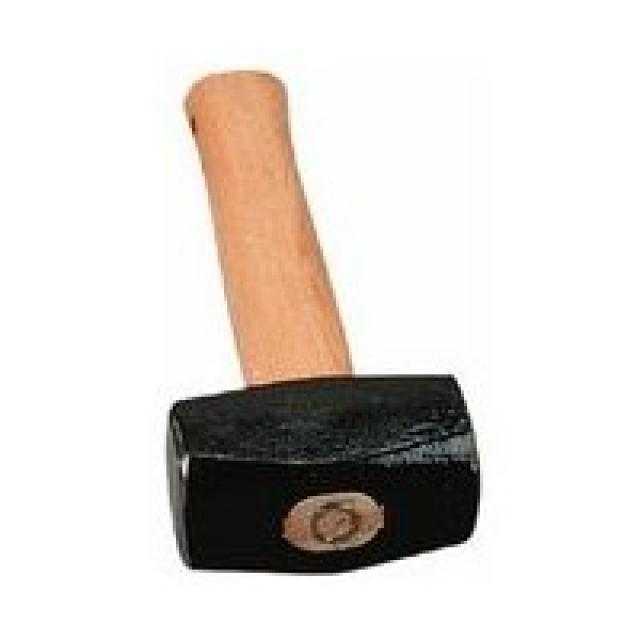hammer: (150, 59, 497, 584)
